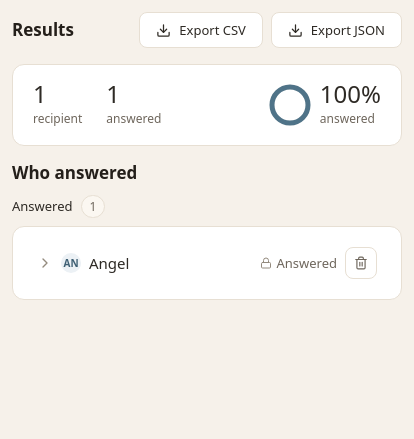
Test case: QuestionnaireResults › private send (§21.5): shows NOTHING from the answers — a calm explainer + a "Draw an insight" CTA
Click the button with aria-label "Expand ": (145, 263) x1=37 y1=253 x2=252 y2=273
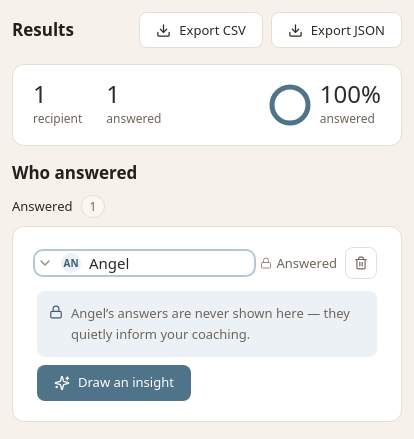
Now the text "answers are never shown here — they quietly inform your coaching" is shown, box x1=71 y1=304 x2=350 y2=343
Now the button "Draw an insight" is shown, box x1=37 y1=365 x2=191 y2=401
